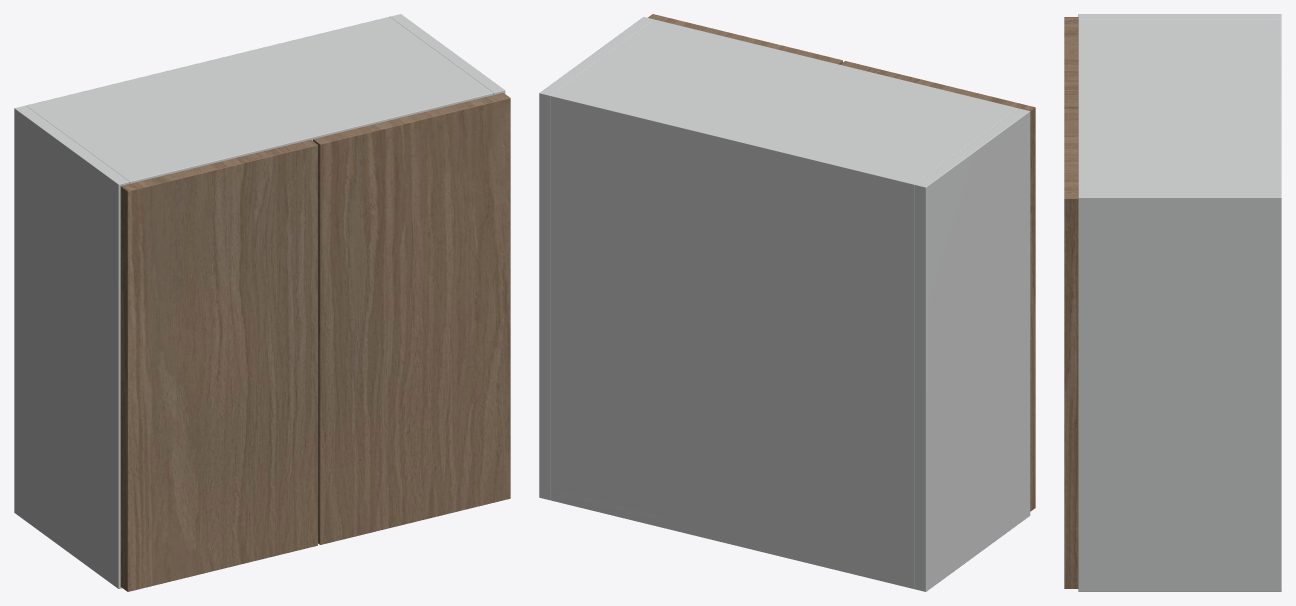
File: oppein-pb-mnw-w2424.glb
The picture shows the model from 3 angles, left to right: view 1: azimuth 30°, elevation 25°; view 2: azimuth 150°, elevation 25°; view 3: azimuth 270°, elevation 25°; orthographic projection. The views are drawn at different scales.
Parts seen in each view (by area): view 1: Door, Door.001, Cabinet side, Cabinet top, Cabinet back, Cabinet side.001; view 2: Cabinet back, Cabinet side, Cabinet top, Cabinet side.001, Door, Cabinet bottom, Door.001; view 3: Cabinet side.001, Cabinet top, Door.001, Cabinet back, Door, Cabinet side.
Part boxes in pixels (box(x1,y1,x2,y2)): Door: box(120, 140, 317, 591); Door.001: box(313, 93, 510, 544); Cabinet side: box(14, 105, 129, 588); Cabinet top: box(30, 17, 493, 183); Cabinet back: box(26, 17, 392, 108); Cabinet side.001: box(390, 14, 505, 94); Cabinet back: box(550, 93, 918, 589); Cabinet side: box(914, 108, 1030, 591); Cabinet top: box(550, 19, 1018, 195); Cabinet side.001: box(539, 17, 654, 500); Door: box(840, 61, 1035, 511); Cabinet bottom: box(550, 489, 913, 588); Door.001: box(648, 14, 842, 64); Cabinet side.001: box(1078, 192, 1281, 591); Cabinet top: box(1078, 19, 1281, 192); Door.001: box(1064, 108, 1078, 588); Cabinet back: box(1273, 19, 1281, 192); Door: box(1064, 17, 1078, 108); Cabinet side: box(1078, 14, 1281, 19).
Size of the model in its own units: 0.6096 by 0.6096 by 0.3048.
Materials: 2 (1 with a texture image).
